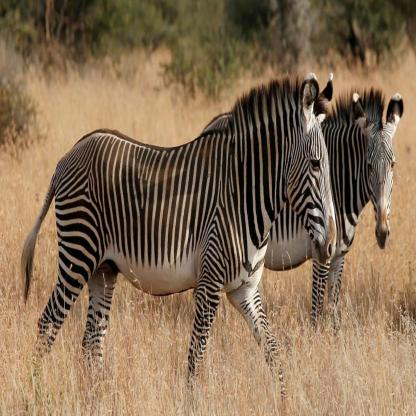zebra: (36, 62, 334, 389), (296, 68, 405, 299)
